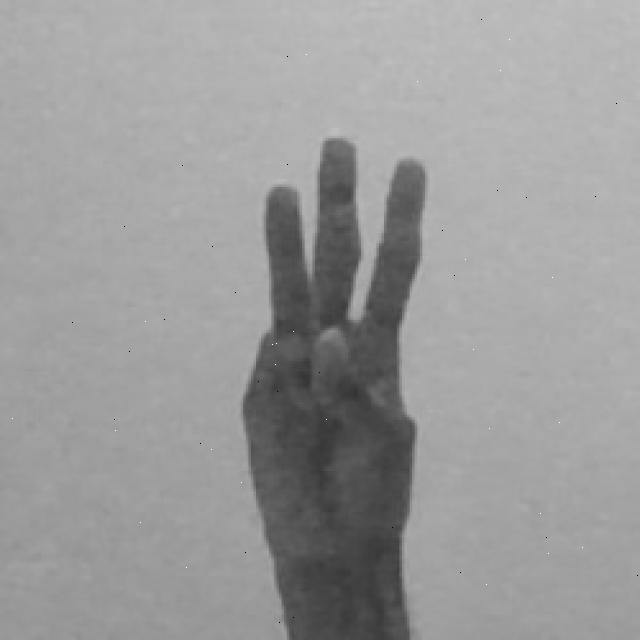W: (235, 130, 432, 640)
